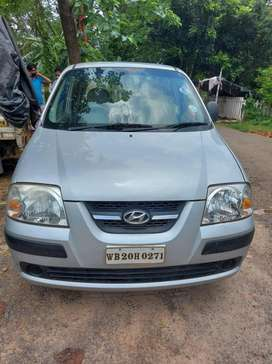WB20H0271: (106, 247, 164, 264)
